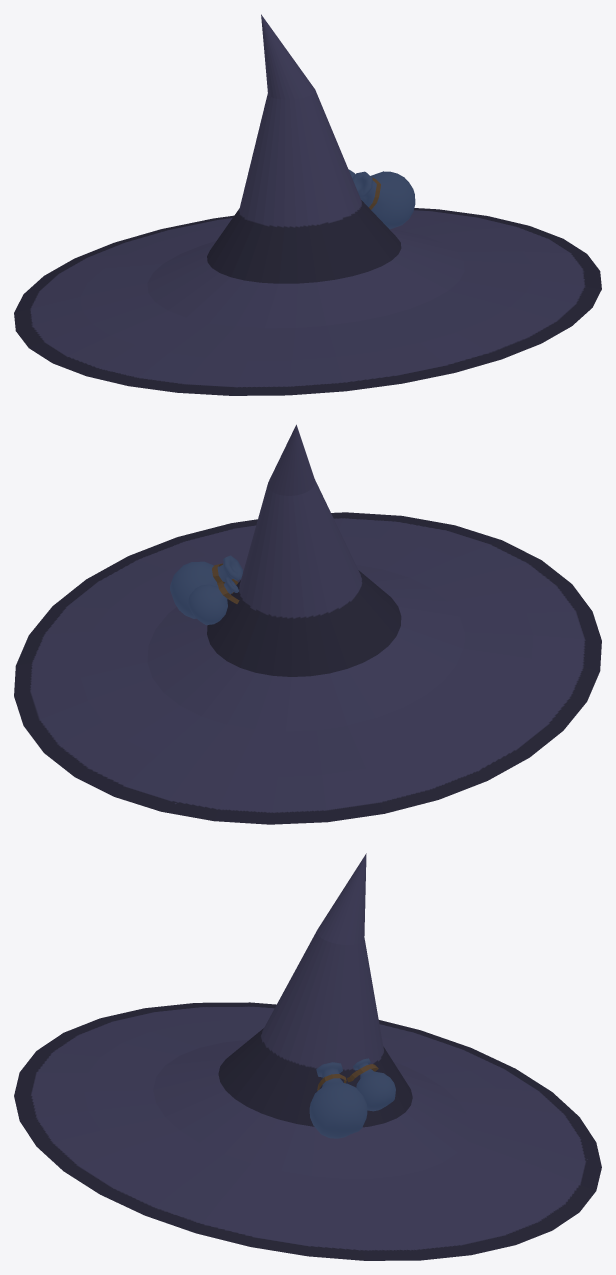
File: blinkHat.glb
The picture shows the model from 3 angles, top to bottom: view 1: azimuth 30°, elevation 25°; view 2: azimuth 150°, elevation 25°; view 3: azimuth 270°, elevation 25°; orthographic projection.
Visible parts, largest first — view 1: hAT, bigBottle; view 2: hAT, bigBottle, lilBottle; view 3: hAT, bigBottle, lilBottle.
Boxes of the visible parts, left/top/right/bottom form: hAT: left=14, top=14, right=601, bottom=395; bigBottle: left=352, top=171, right=415, bottom=229; hAT: left=14, top=424, right=601, bottom=824; bigBottle: left=170, top=555, right=242, bottom=618; lilBottle: left=187, top=577, right=239, bottom=625; hAT: left=14, top=853, right=601, bottom=1260; bigBottle: left=309, top=1062, right=367, bottom=1138; lilBottle: left=353, top=1058, right=395, bottom=1111.
Size of the model in its own units: 4.1 by 2.34 by 4.09.
4 materials, 3 textured.
